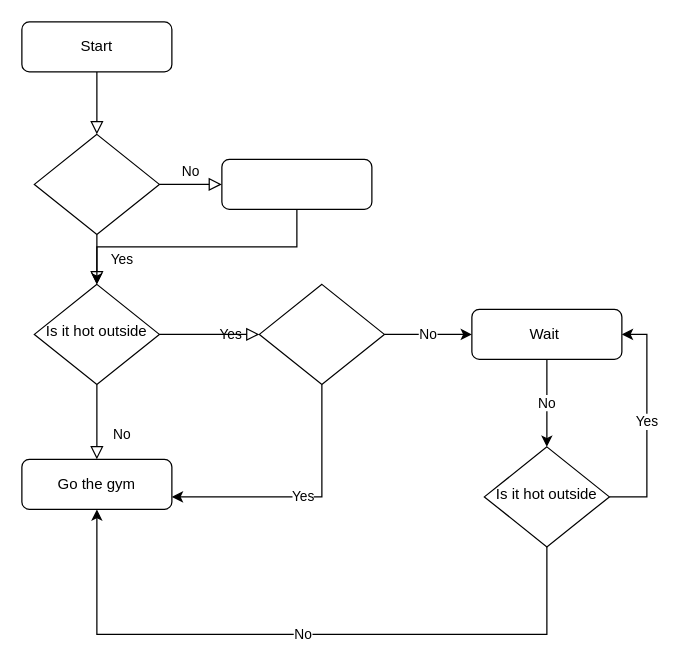
Some shapes in this 680 by 666 pixel diagram are drawn without their labels. The shapes that lost their labels are listed below. From the top down, each one's centre as x and y in pixels, then its label:
At [96,183]: "Clothes prepared?".
At [296,183]: "Prepare gym clothes".
At [321,333]: "Take extra water".
